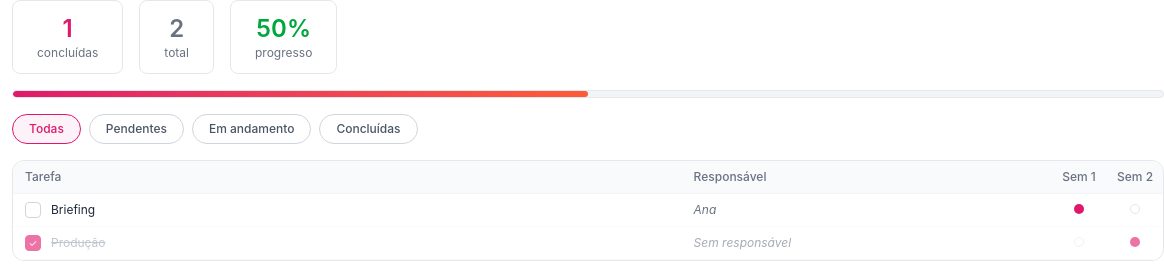
it: TaskChecklistGantt › filters to only completed tasks when the "Concluídas" pill is clicked
The image size is (1164, 278).
Step 1. Click the button "Concluídas" → (368,129), box top-left (319, 114), bottom-right (418, 144)
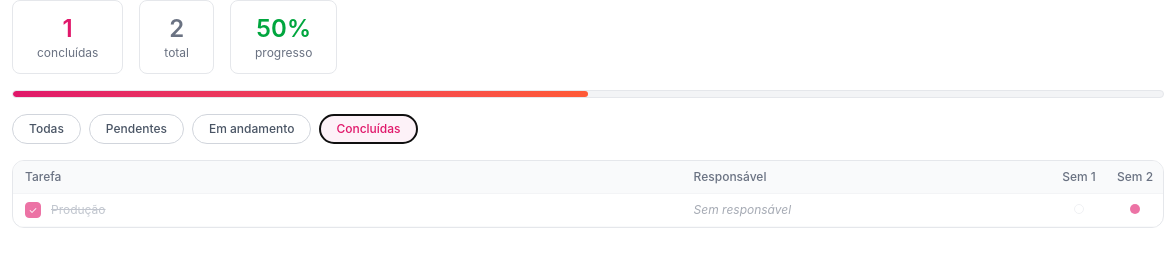
Expected: the text "Produção" is shown, top-left (51, 202), bottom-right (106, 218)
Expected: the text "Briefing" is gone
